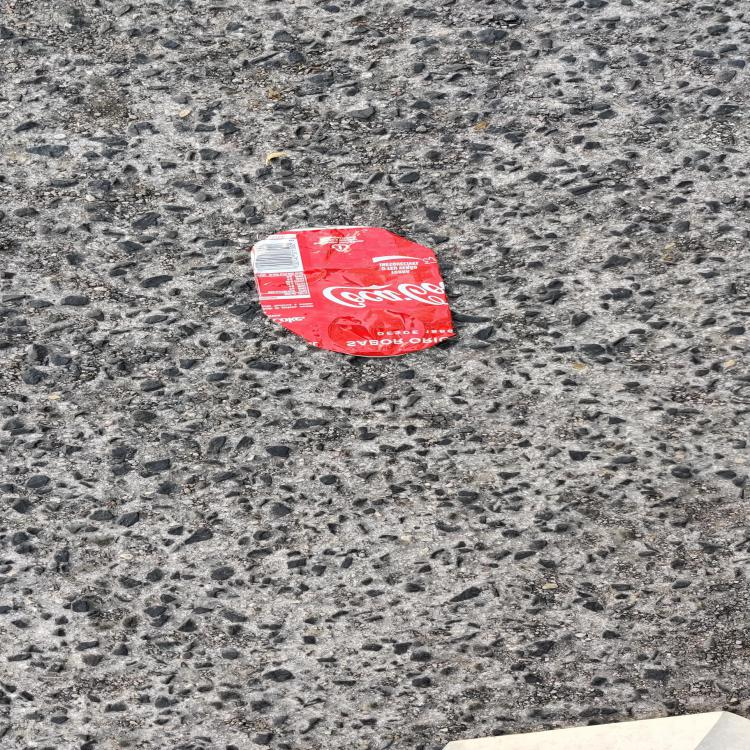Drink can: (252, 225, 454, 358)
